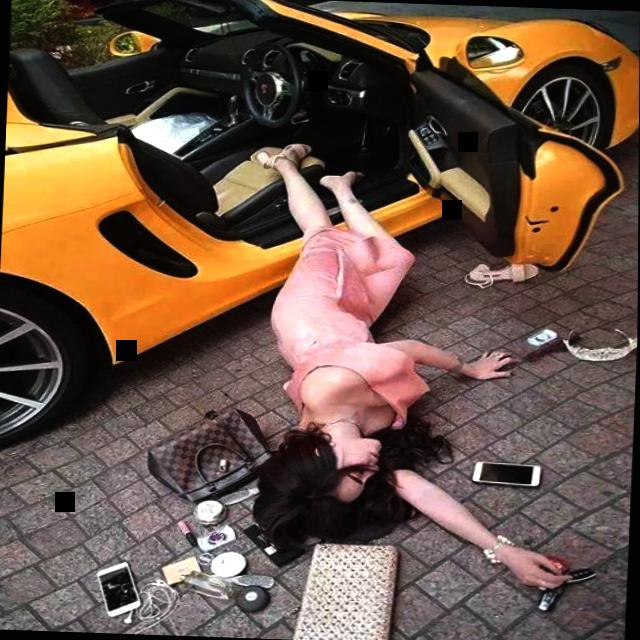Fall-Detected: (185, 108, 638, 606)
